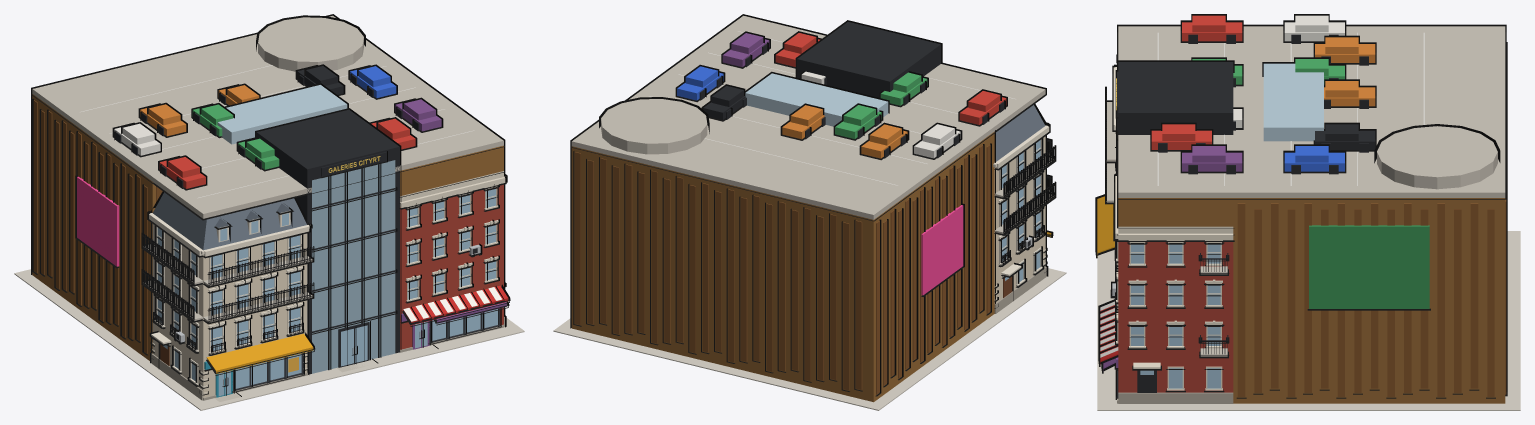
File: Simge_avm.fbx
3 views of the same model, side by side, from view 1: azimuth 30°, elevation 25°; view 2: azimuth 150°, elevation 25°; view 3: azimuth 270°, elevation 25° (orthographic). The views are drawn at different scales.
Visible parts, largest first — view 1: Simge_avm; view 2: Simge_avm; view 3: Simge_avm.
Part boxes in pixels (left/top/right/bottom): Simge_avm: left=14, top=14, right=524, bottom=410; Simge_avm: left=553, top=14, right=1066, bottom=410; Simge_avm: left=1095, top=14, right=1520, bottom=410.
Size of the model in its own units: 28.03 by 17.29 by 28.11.
